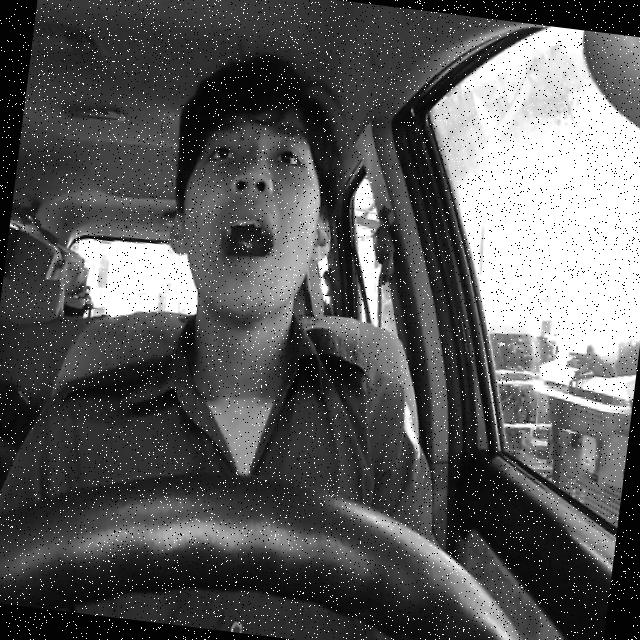yarning: (159, 91, 345, 332)
